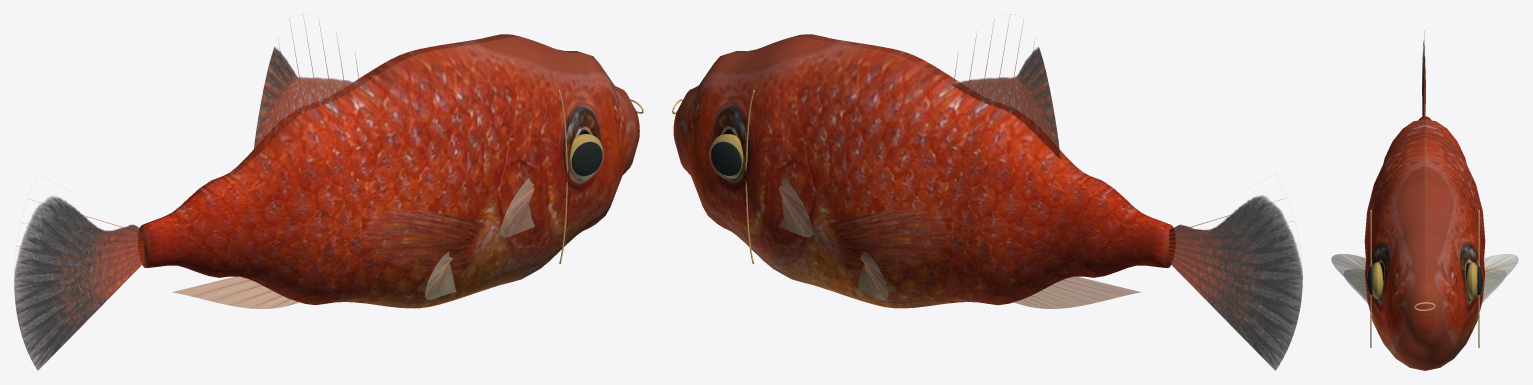
File: platy-mobile.glb
3 views of the same model, side by side, from view 1: azimuth 30°, elevation 25°; view 2: azimuth 150°, elevation 25°; view 3: azimuth 270°, elevation 25° (orthographic). The views are drawn at different scales.
Visible parts, largest first — view 1: skin, tail, dorsal, anal, dorsal-ray, pectoral-right, pelvic-right, eye-pupil--1; view 2: skin, tail, dorsal, anal, dorsal-ray, pectoral-left, pelvic-left, eye-pupil--1; view 3: skin, pectoral-left, pectoral-right, eye-iris--1, operculum, pelvic-left, pelvic-right, dorsal-ray, eye-pupil--1, tail.
Part boxes in pixels (box(x1,y1,x2,y2)): skin: box(138, 34, 639, 308); tail: box(14, 196, 144, 370); dorsal: box(252, 47, 360, 158); anal: box(172, 276, 299, 308); dorsal-ray: box(16, 19, 534, 348); pectoral-right: box(500, 177, 534, 237); pelvic-right: box(425, 251, 455, 299); eye-pupil--1: box(571, 141, 602, 175); skin: box(673, 34, 1174, 308); tail: box(1169, 195, 1302, 370); dorsal: box(952, 47, 1060, 158); anal: box(1014, 276, 1140, 308); dorsal-ray: box(779, 14, 1301, 345); pectoral-left: box(778, 177, 812, 237); pelvic-left: box(857, 251, 888, 299); eye-pupil--1: box(711, 141, 741, 175); skin: box(1364, 116, 1485, 370); pectoral-left: box(1483, 254, 1518, 298); pectoral-right: box(1331, 254, 1366, 298); eye-iris--1: box(1372, 262, 1477, 298); operculum: box(1370, 210, 1479, 347); pelvic-left: box(1482, 269, 1505, 303); pelvic-right: box(1344, 269, 1367, 303); dorsal-ray: box(1337, 31, 1512, 290); eye-pupil--1: box(1367, 266, 1482, 294); tail: box(1422, 39, 1424, 116).
Size of the model in its own units: 0.5972 by 0.2916 by 0.1964.
Materials: 11 (3 with a texture image).
